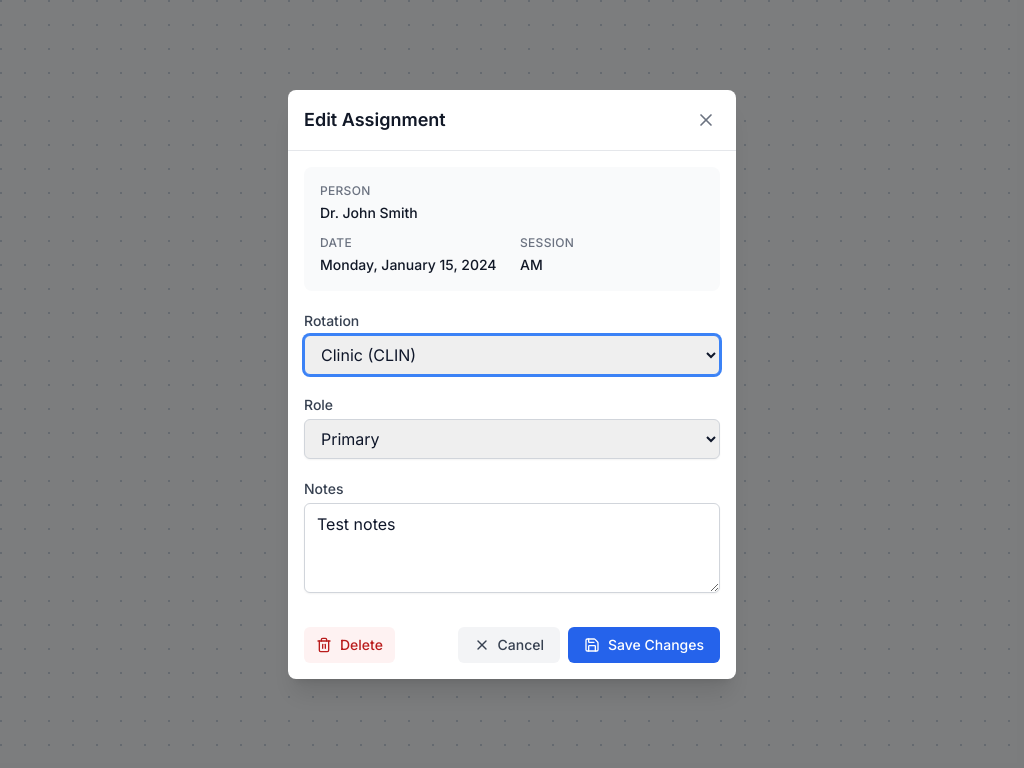
Test: EditAssignmentModal › Delete Functionality › should show confirmation dialog when delete is clicked
Click the button "Delete" at (349, 644), box [304, 626, 395, 662]
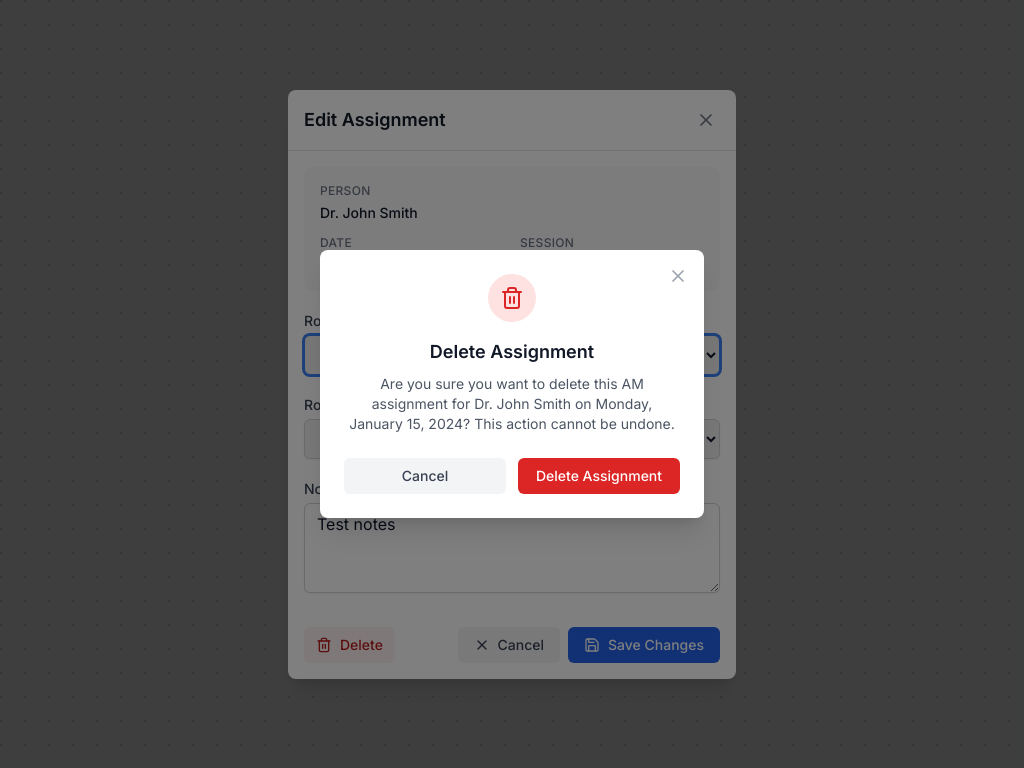
Expected: the dialog is shown, [320, 250, 704, 518]
Expected: the text "Are you sure you want to delete" is shown, [349, 375, 675, 432]
